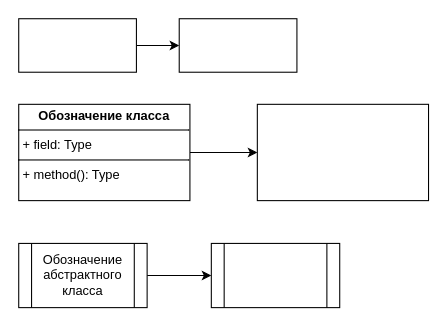
Image size: 447x326. Some labels were removed from this diagram. The shapes that lost their labels are listed below. From the top down, each one's centre as x and y in pixels, then its label:
the point at 77,45: Обозначение Интерфейса
the point at 342,152: Class + field: Type + method(): Type
